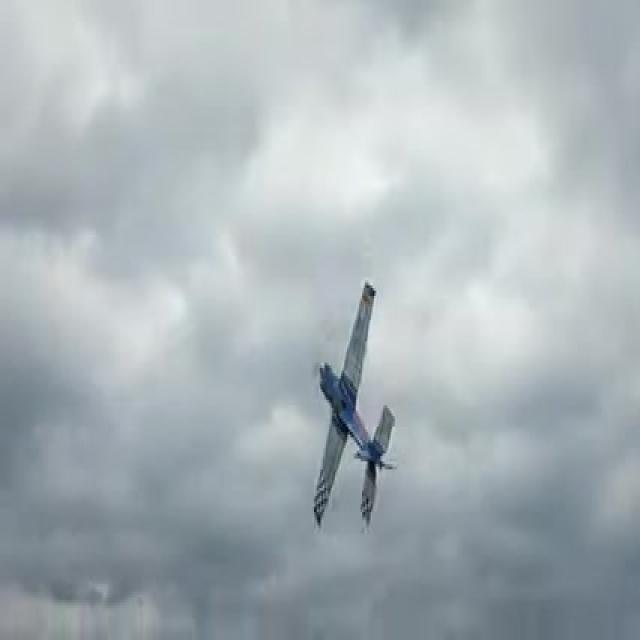iha: (340, 279, 367, 532)
